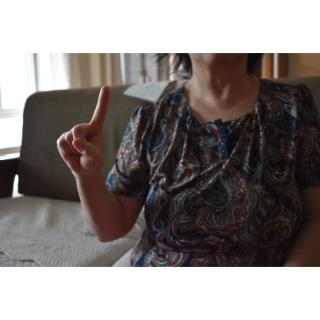BAA: (50, 82, 114, 176)
